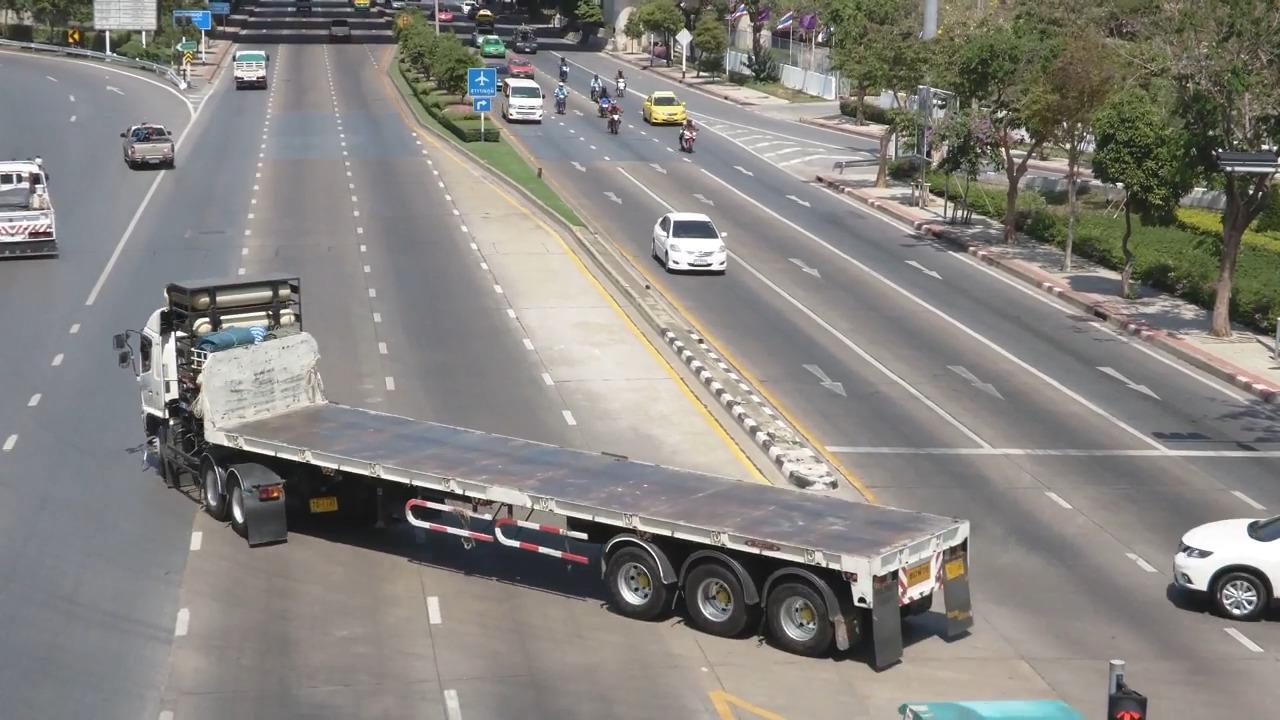CAR: (1147, 452, 1280, 637), (0, 152, 77, 273), (647, 198, 741, 282), (116, 108, 198, 185), (226, 43, 280, 103), (501, 72, 551, 132), (638, 88, 691, 133), (322, 13, 359, 53)
HGV_BUS: (116, 273, 1005, 679)
MOTOR: (585, 67, 612, 115), (602, 99, 631, 142), (677, 112, 702, 161), (613, 67, 637, 99), (556, 80, 574, 120)
